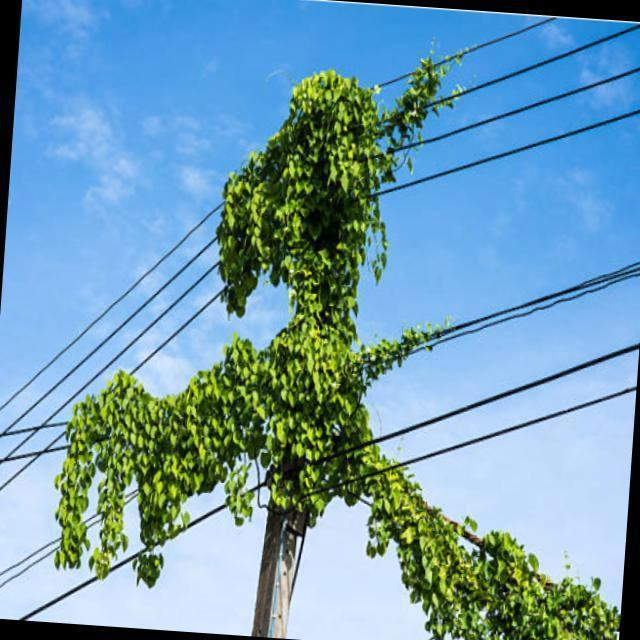critical vegetation: (222, 36, 404, 586)
